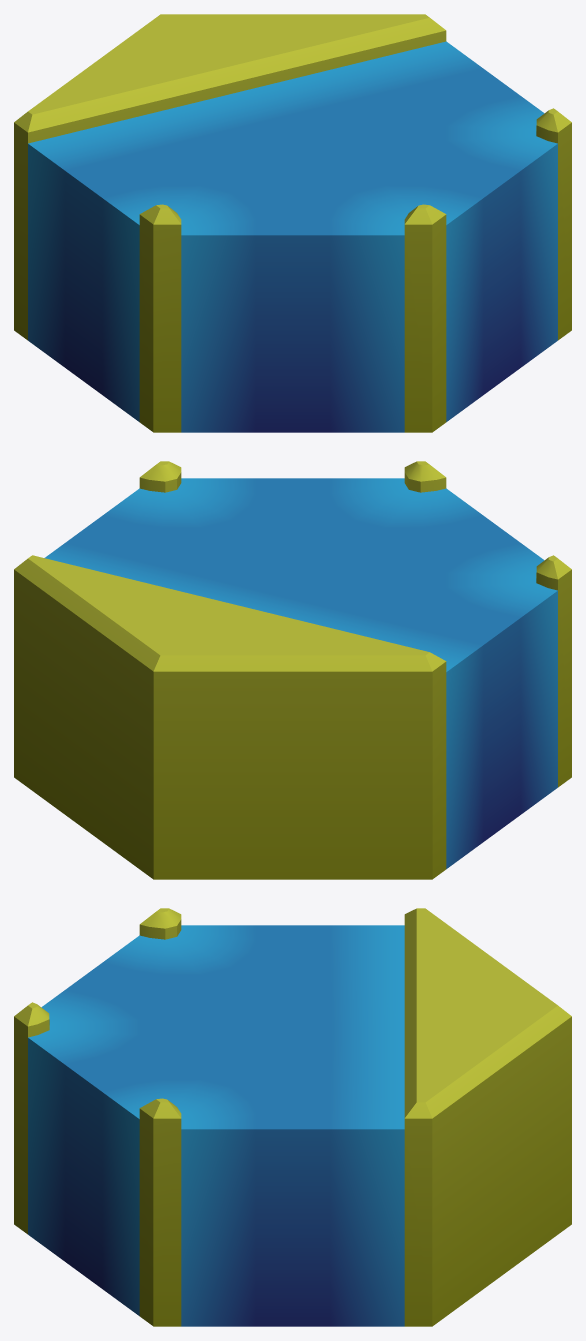
Rendered from hex_river_J.glb.
3 views of the same model, one above another, from view 1: azimuth 30°, elevation 25°; view 2: azimuth 150°, elevation 25°; view 3: azimuth 270°, elevation 25° (orthographic).
Parts seen in each view (by area): view 1: hex_river_J; view 2: hex_river_J; view 3: hex_river_J.
Boxes of the visible parts, <box> form: hex_river_J: <box>14,14,571,432</box>; hex_river_J: <box>14,461,571,879</box>; hex_river_J: <box>14,908,571,1326</box>.
Bounding box in the file's own units: 2 × 1 × 2.31.
Materials: 1 (1 with a texture image).
